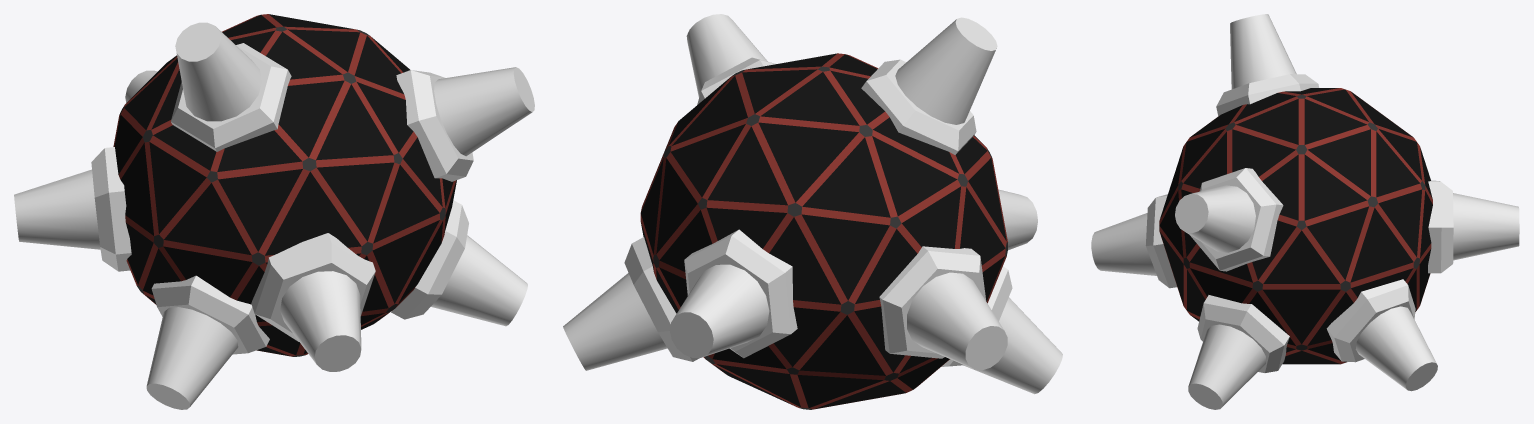
The model's file is SM_Prop_Mine_01.fbx.
3 renders of one model, left to right at view 1: azimuth 30°, elevation 25°; view 2: azimuth 150°, elevation 25°; view 3: azimuth 270°, elevation 25°, orthographic. The views are drawn at different scales.
Parts seen in each view (by area): view 1: SM_Prop_Mine_01.001; view 2: SM_Prop_Mine_01.001; view 3: SM_Prop_Mine_01.001.
Part boxes in pixels (bbox=[...]): SM_Prop_Mine_01.001: bbox=[14, 14, 534, 409]; SM_Prop_Mine_01.001: bbox=[563, 14, 1062, 409]; SM_Prop_Mine_01.001: bbox=[1091, 14, 1519, 409].
Size of the model in its own units: 238 by 201 by 259.
